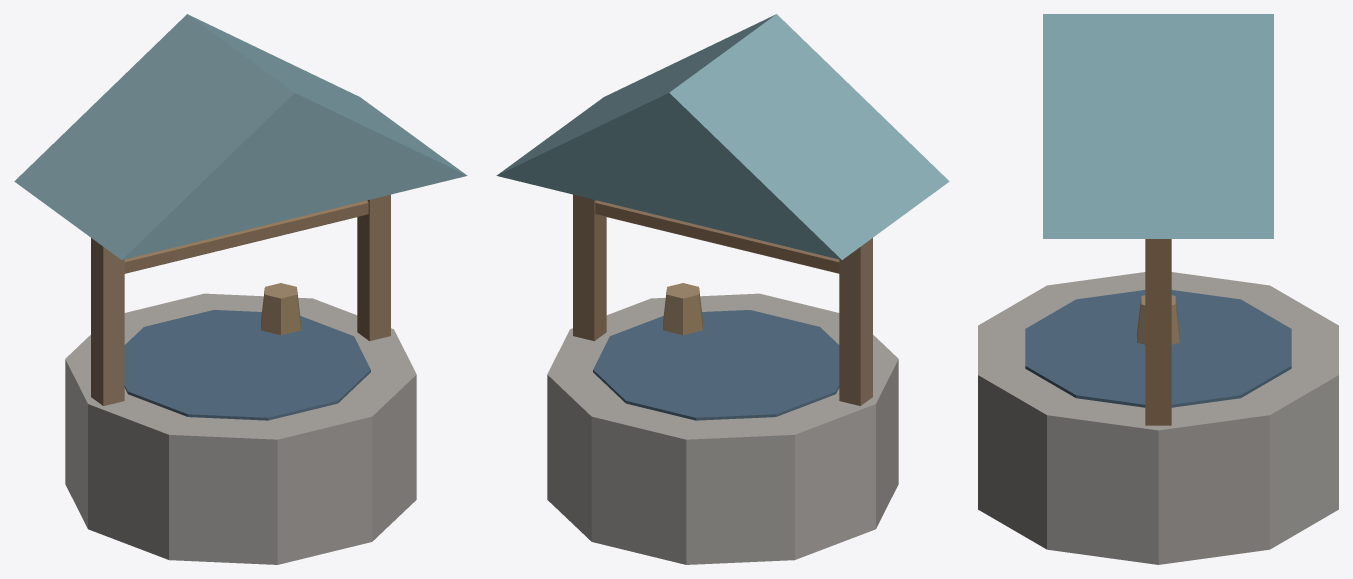
Rendered from well.glb.
3 renders of one model, left to right at view 1: azimuth 30°, elevation 25°; view 2: azimuth 150°, elevation 25°; view 3: azimuth 270°, elevation 25°, orthographic. The views are drawn at different scales.
Parts seen in each view (by area): view 1: well2; view 2: well2; view 3: well2.
Part boxes in pixels (box(x1,y1,x2,y2)): well2: box(14, 14, 467, 564); well2: box(496, 14, 949, 564); well2: box(978, 14, 1338, 564).
Size of the model in its own units: 2.6 by 3.15 by 2.19.
